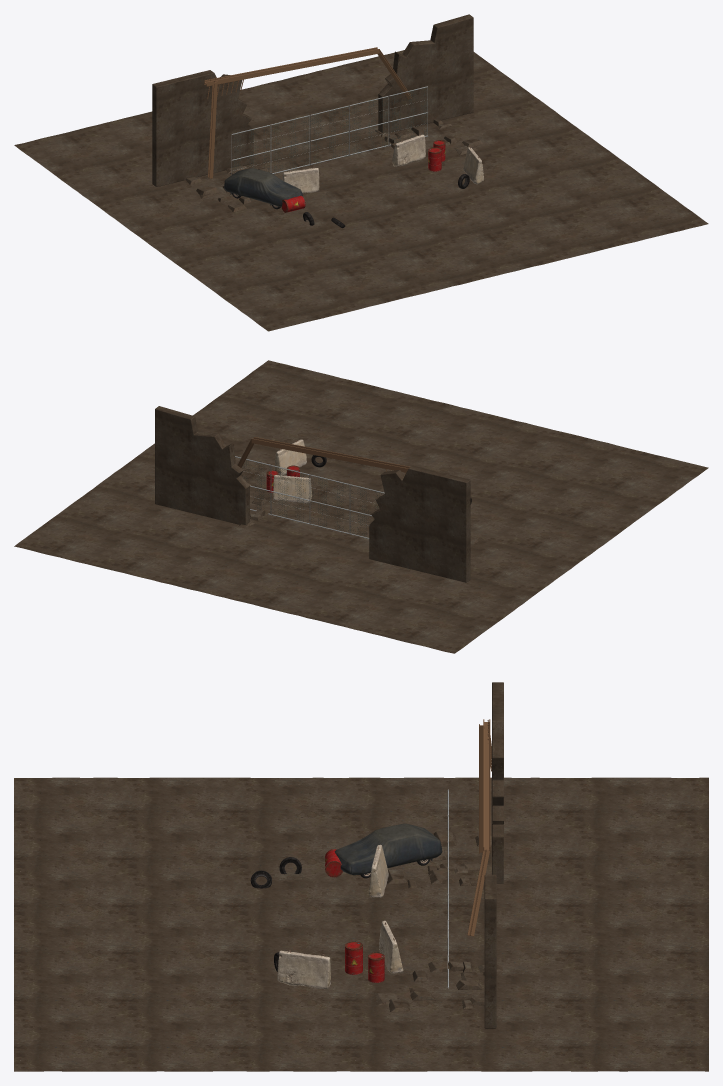
The model's file is blender-wasteland.glb.
3 views of the same model, one above another, from view 1: azimuth 30°, elevation 25°; view 2: azimuth 150°, elevation 25°; view 3: azimuth 270°, elevation 25° (orthographic). The views are drawn at different scales.
Parts seen in each view (by area): view 1: Baked_Concrete_Ground, Broken west warehouse, Broken east warehouse, covered_car, Bent overhead girder, concrete_road_barrier_02.001, concrete_road_barrier_02, West support, modular_chainlink_fence_double.002, concrete_road_barrier_02.002, modular_chainlink_fence_double.003, modular_chainlink_fence_double.001; view 2: Baked_Concrete_Ground, Broken west warehouse, Broken east warehouse, Bent overhead girder, concrete_road_barrier_02.001, concrete_road_barrier_02.002, modular_chainlink_fence_double.002; view 3: Baked_Concrete_Ground, covered_car, Broken west warehouse, Broken east warehouse, concrete_road_barrier_02.002, Bent overhead girder, concrete_road_barrier_02.001, concrete_road_barrier_02, Broken hanging girder, West support.
Boxes of the visible parts, x1,y1,x2,y2 form: Baked_Concrete_Ground: (14,50,708,331); Broken west warehouse: (152,70,253,186); Broken east warehouse: (378,14,473,132); covered_car: (224,168,302,206); Bent overhead girder: (204,47,379,86); concrete_road_barrier_02.001: (392,134,425,166); concrete_road_barrier_02: (282,166,319,193); West support: (207,81,217,178); modular_chainlink_fence_double.002: (310,105,349,165); concrete_road_barrier_02.002: (463,147,483,184); modular_chainlink_fence_double.003: (349,96,388,155); modular_chainlink_fence_double.001: (270,115,309,173); Baked_Concrete_Ground: (14,360,708,653); Broken west warehouse: (369,465,470,582); Broken east warehouse: (155,406,249,524); Bent overhead girder: (251,437,410,472); concrete_road_barrier_02.001: (273,474,312,503); concrete_road_barrier_02.002: (274,439,306,475); modular_chainlink_fence_double.002: (310,474,349,533); Baked_Concrete_Ground: (14,777,708,1071); covered_car: (335,823,442,875); Broken west warehouse: (492,682,503,883); Broken east warehouse: (484,874,496,1028); concrete_road_barrier_02.002: (277,950,330,989); Bent overhead girder: (483,719,490,852); concrete_road_barrier_02.001: (379,920,403,973); concrete_road_barrier_02: (369,844,388,897); Broken hanging girder: (467,849,489,936); West support: (479,724,484,853).
Size of the model in its own units: 28 by 6.4 by 28.
Materials: 9 (8 with a texture image).
